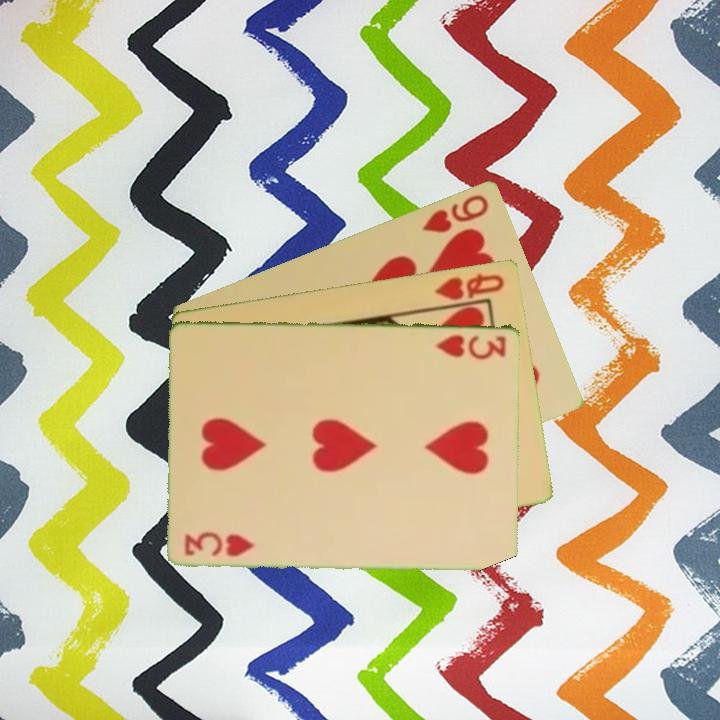3h: (433, 330, 510, 361), (181, 529, 258, 560)
9h: (419, 190, 492, 236)
Qh: (432, 269, 508, 303)
